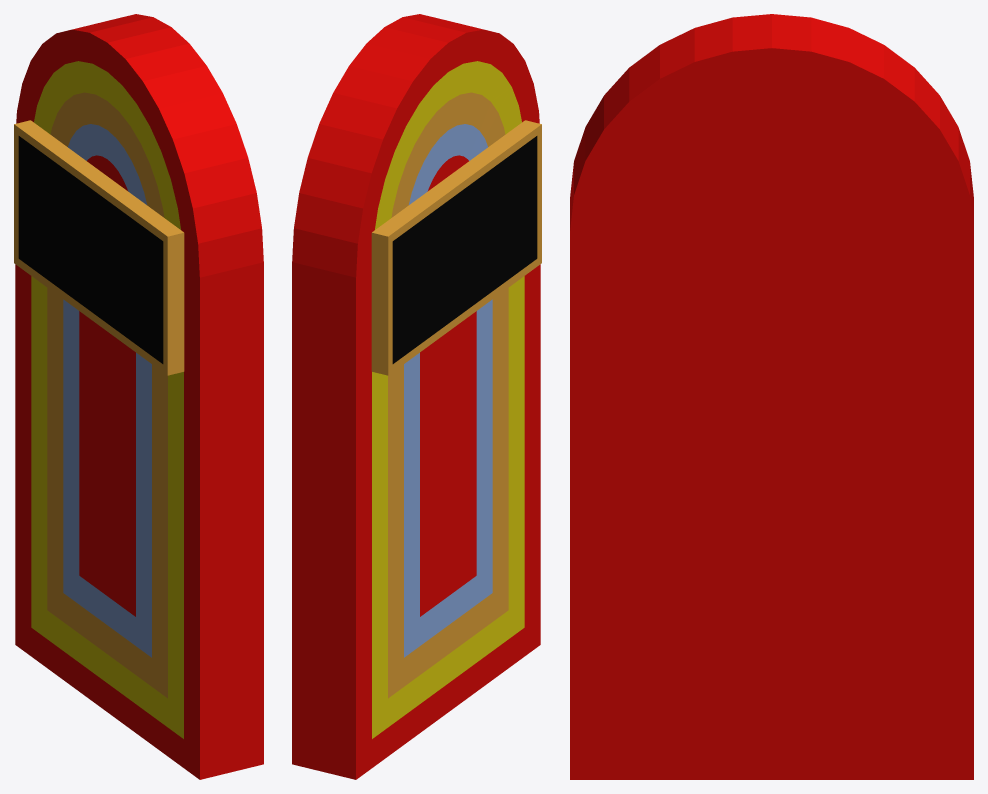
The model's file is GamechangerPodium.fbx.
3 views of the same model, side by side, from view 1: azimuth 30°, elevation 25°; view 2: azimuth 150°, elevation 25°; view 3: azimuth 270°, elevation 25° (orthographic). The views are drawn at different scales.
Visible parts, largest first — view 1: Podium; view 2: Podium; view 3: Podium.
Boxes of the visible parts, x1,y1,x2,y2 form: Podium: [14, 14, 263, 779]; Podium: [292, 14, 541, 779]; Podium: [570, 14, 973, 779].
Bounding box in the file's own units: 20.15 × 160 × 80.
